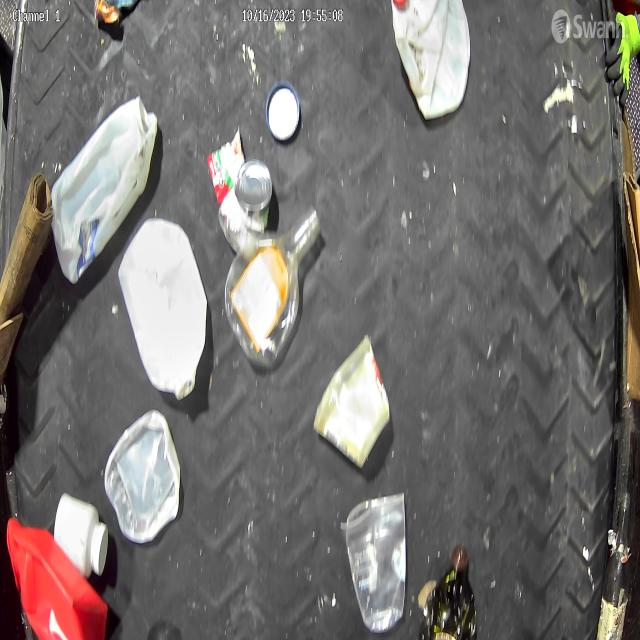can: (218, 158, 280, 254)
milk_jug: (52, 79, 156, 284), (118, 211, 212, 406), (392, 0, 472, 123)
non_white_jug: (3, 516, 111, 640)
